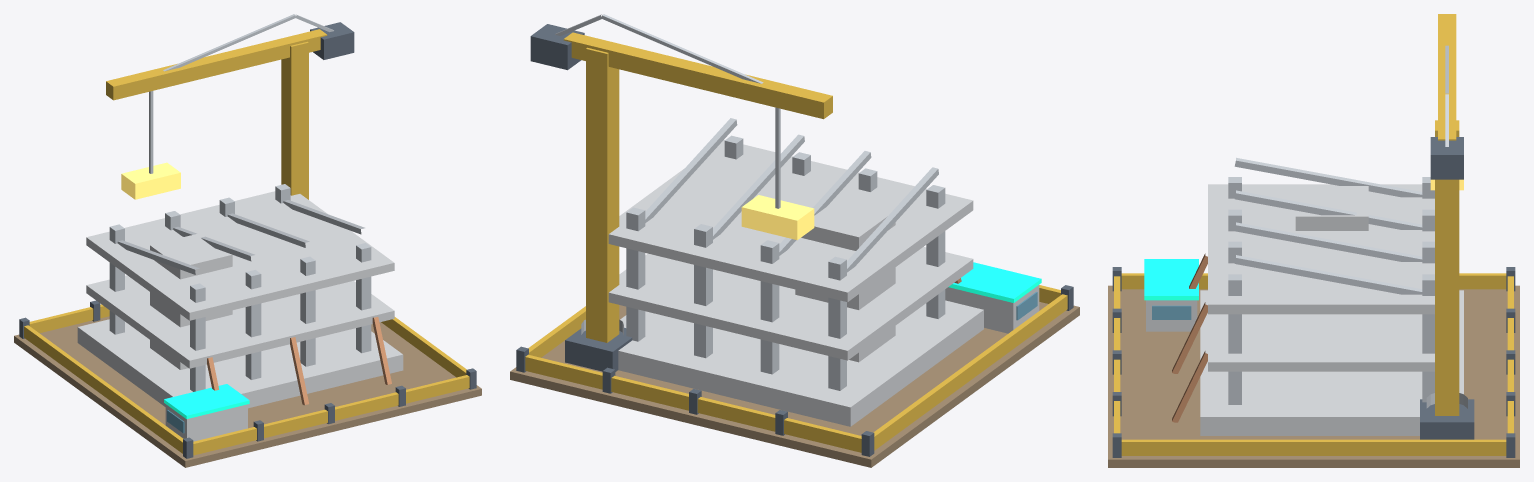
File: stage_4_structural.glb
3 renders of one model, left to right at view 1: azimuth 30°, elevation 25°; view 2: azimuth 150°, elevation 25°; view 3: azimuth 270°, elevation 25°, orthographic. The views are drawn at different scales.
Visible parts, largest first — view 1: stage_4_structural; view 2: stage_4_structural; view 3: stage_4_structural.
Part boxes in pixels (x1,y1,x2,y2): stage_4_structural: (14,14,481,467); stage_4_structural: (510,14,1079,467); stage_4_structural: (1108,14,1519,467).
Bounding box in the file's own units: 2.78 × 2.53 × 2.72.
